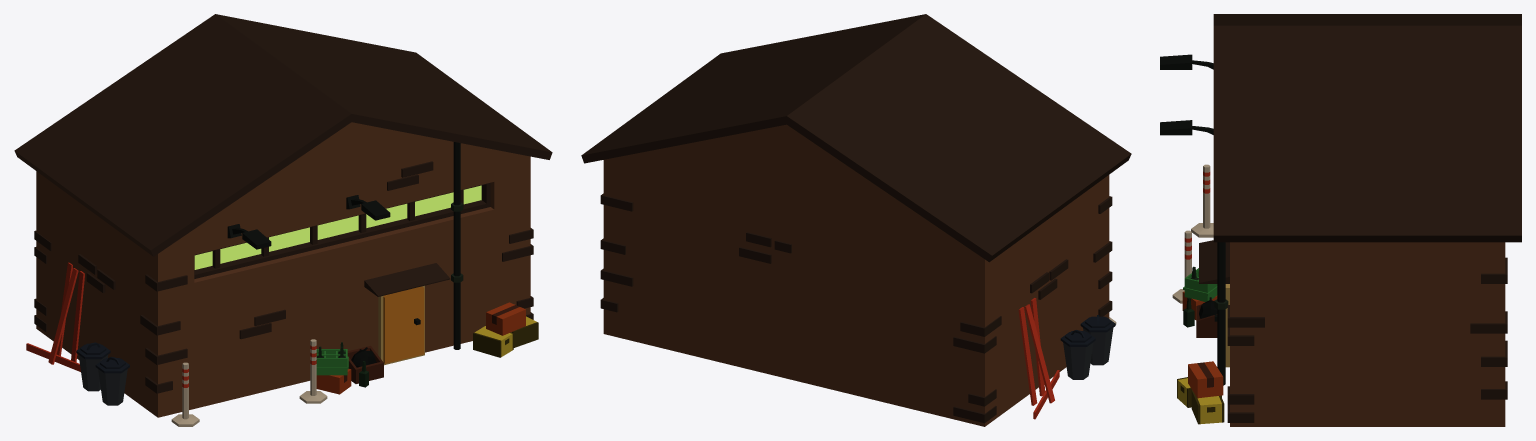
Rendered from house_2.fbx.
3 renders of one model, left to right at view 1: azimuth 30°, elevation 25°; view 2: azimuth 150°, elevation 25°; view 3: azimuth 270°, elevation 25°, orthographic. The views are drawn at different scales.
Parts seen in each view (by area): view 1: house_1; view 2: house_1; view 3: house_1.
Part boxes in pixels (<box>): house_1: <box>14,14,552,426</box>; house_1: <box>581,14,1131,426</box>; house_1: <box>1160,14,1521,426</box>.
Size of the model in its own units: 1119 by 678 by 743.
